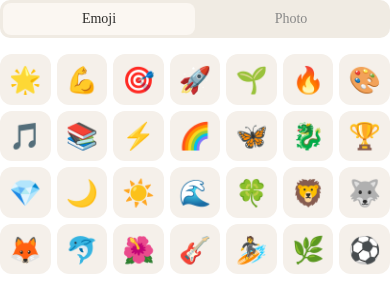
Test: AvatarPicker component › switches to photo tab on tap
What coordinates should you click on to do the following:
click the tab "Photo"
I would click on:
 (291, 18)
Its box is [275,11,307,26].
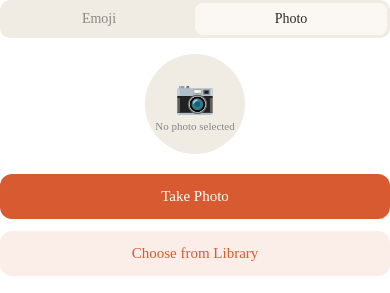
Check: the element with test id "photo-tab" is shown
